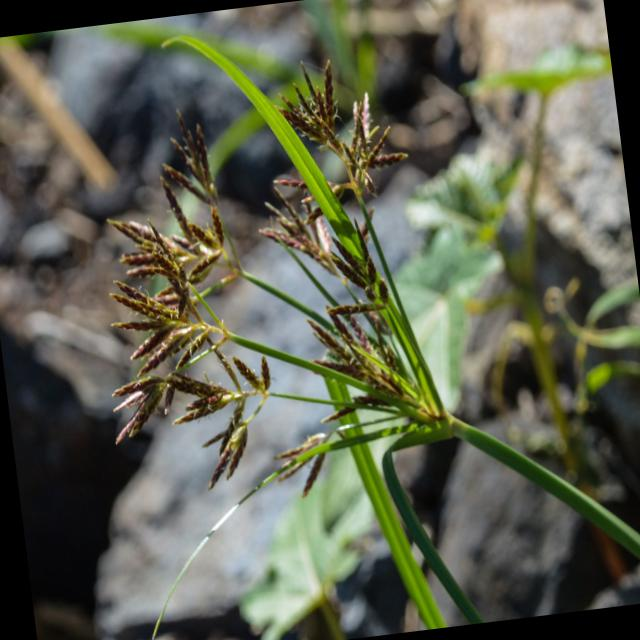cyperus: (81, 198, 240, 467), (267, 47, 417, 208), (296, 292, 404, 416)
